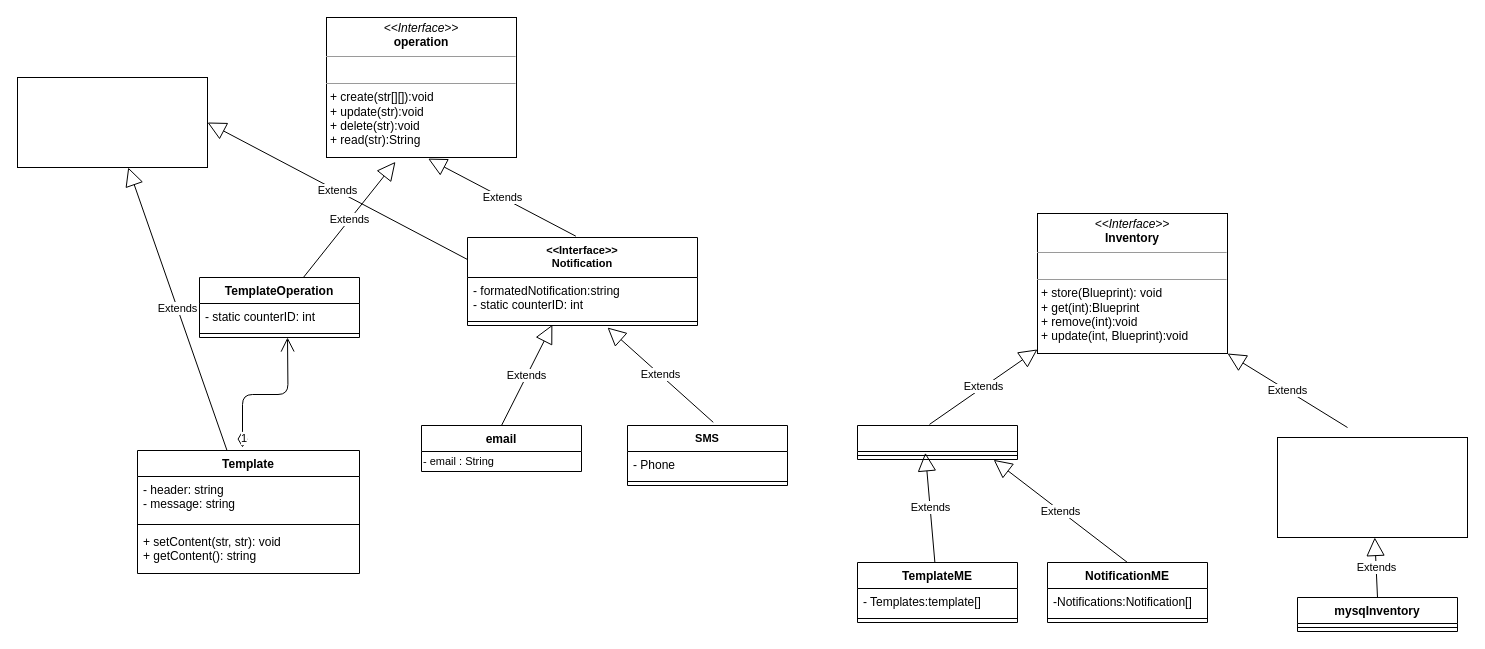
Some shapes in this 1485 by 649 pixel diagram are drawn without their labels. The shapes that lost their labels are listed below. From the top down, each one's centre as x and y in pixels, then its label:
At [112,122]: "<<Interface>> Blueprint".
At [937,442]: "memoryInventory".
At [1372,487]: "<<Interface>> databaseInventory + connectToDataBase():obj".
